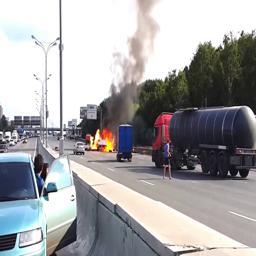fire: (89, 129, 116, 152)
